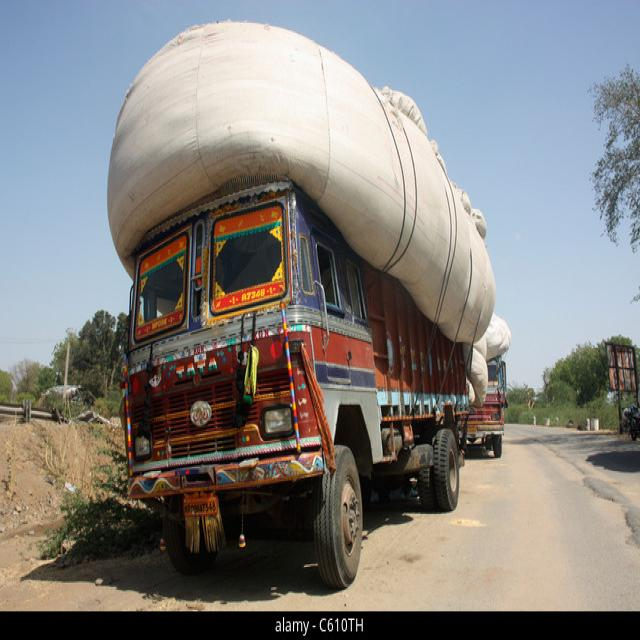normal_truck: (122, 180, 471, 591)
overloaded_truck: (107, 21, 496, 346)
